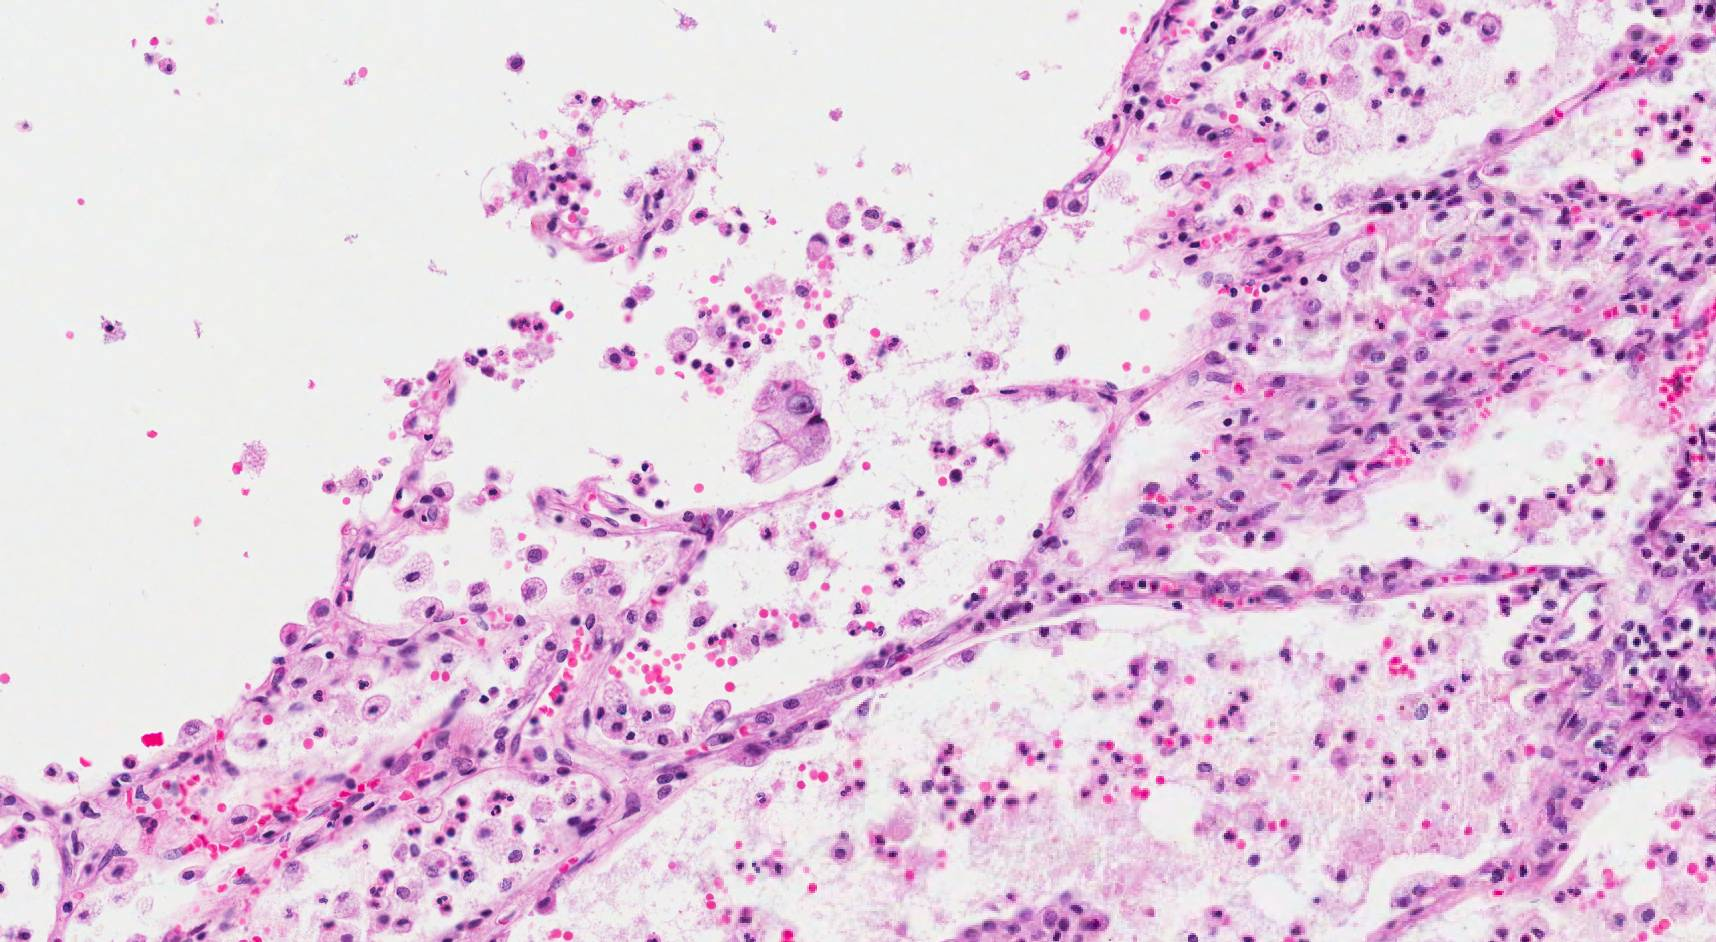stas: (736, 382, 832, 481)
